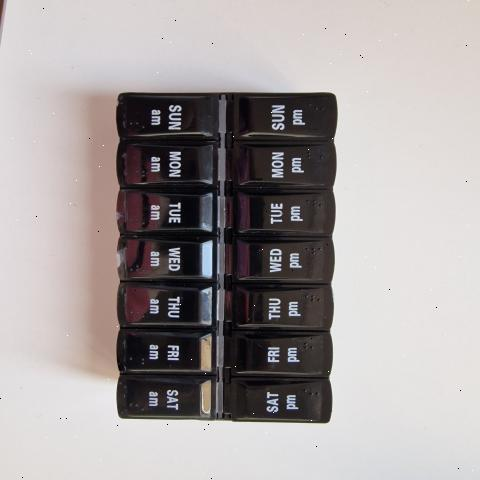FRI-am: (120, 330, 213, 370)
FRI-pm: (229, 322, 325, 370)
MON-am: (112, 145, 219, 193)
MON-pm: (229, 140, 333, 192)
SAT-am: (115, 370, 220, 414)
SAT-pm: (221, 368, 328, 410)
SUN-am: (109, 90, 223, 143)
SUN-pm: (232, 91, 337, 142)
THU-am: (122, 281, 218, 336)
THU-pm: (227, 284, 330, 327)
TUE-am: (115, 198, 221, 244)
TUE-pm: (233, 197, 329, 240)
WED-am: (112, 242, 217, 284)
WED-pm: (222, 239, 341, 287)
